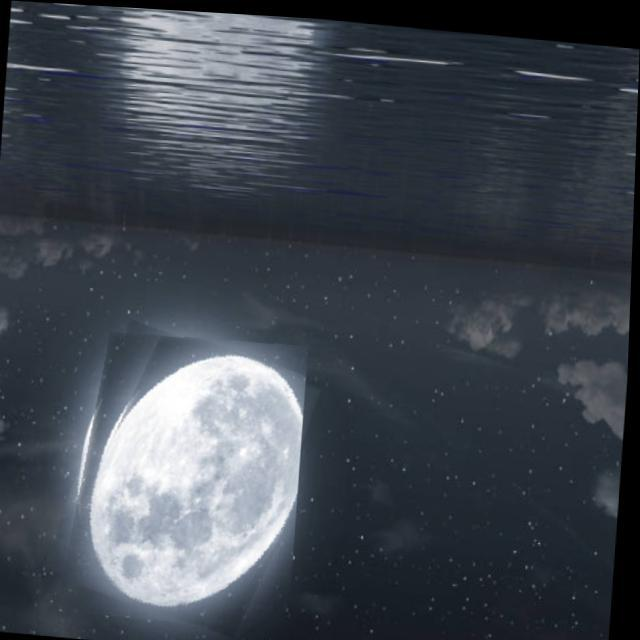moon: (60, 322, 311, 629)
